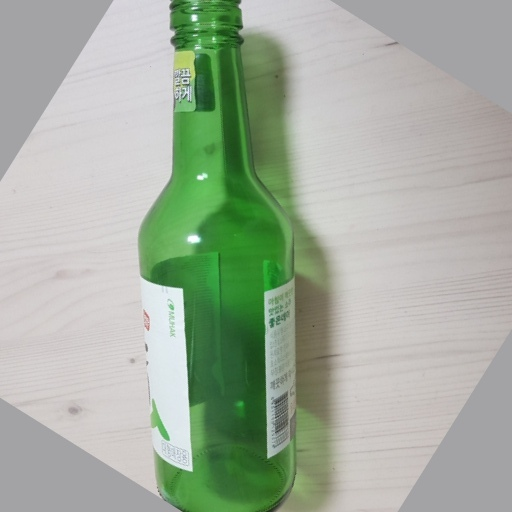Glass_0: (136, 3, 307, 512)
